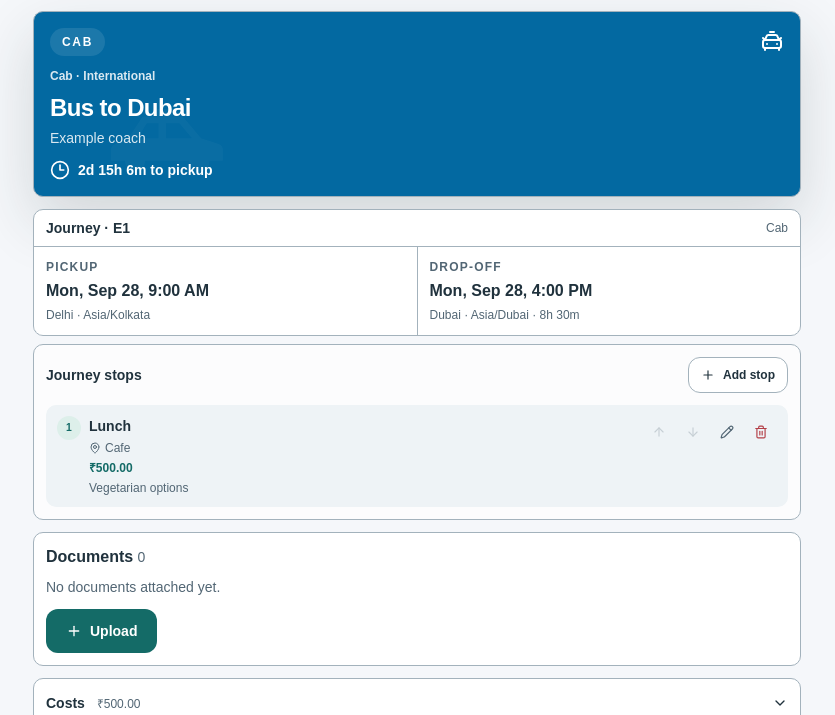
Test: generic journey booking times › shows cab stops and their costs beside the journey, without an empty essentials card
This screenshot has width=835, height=715.
Expected: the list item with aria-label "Cab stop 1: Lunch" is shown, [46,405,788,507]
Expected: the text "Vegetarian options" is shown, [89,481,188,495]
Click the button named "Edit Lunch": (727, 432) [711,416,743,448]
(page scrolled)
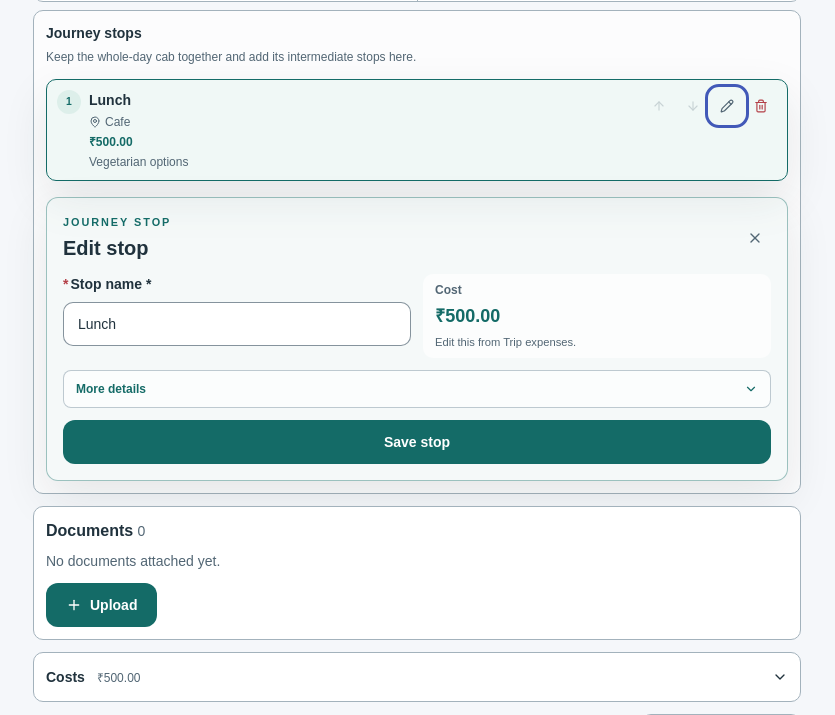
Expected: the form named "Edit cab stop" is shown, [46,197,788,481]
